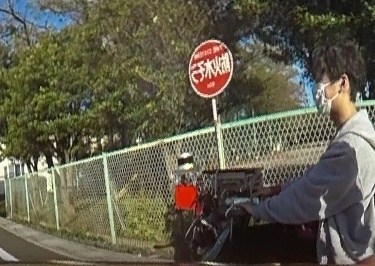person: (239, 33, 375, 266)
